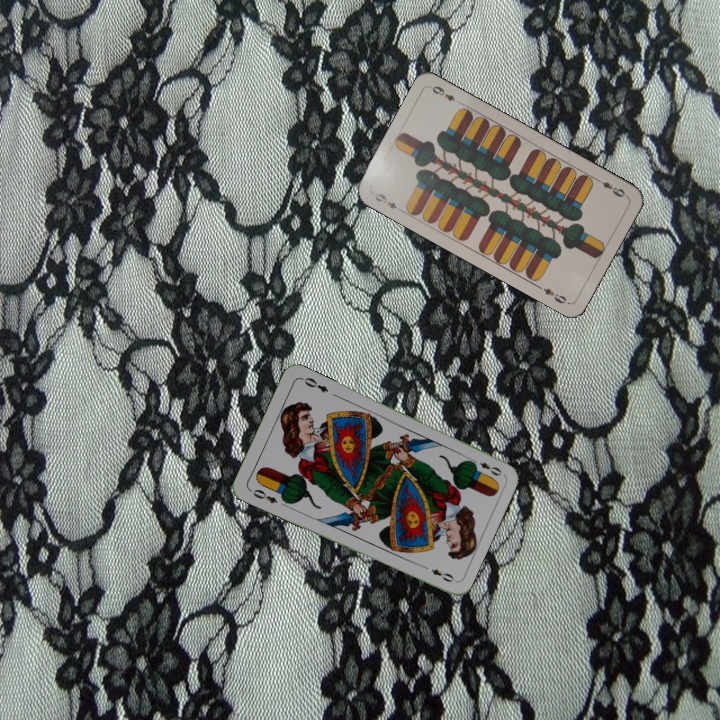E9: (592, 174, 629, 200), (371, 189, 400, 211)
EO: (466, 454, 505, 479), (246, 485, 280, 506)
